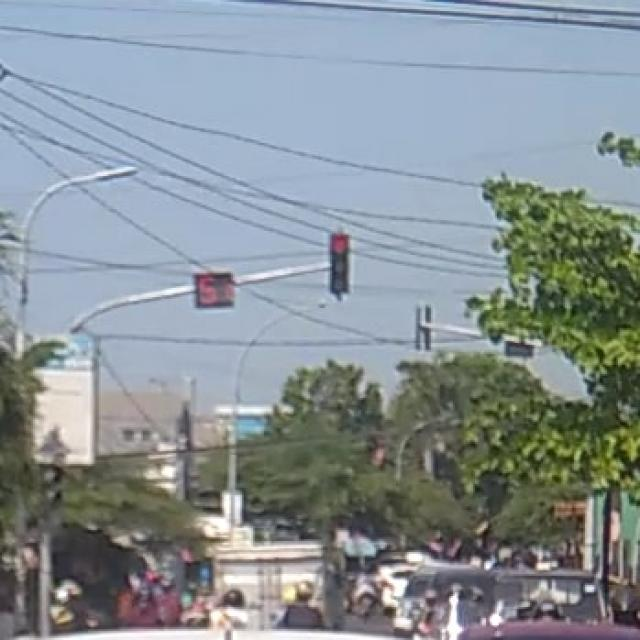car: (326, 231, 354, 295)
